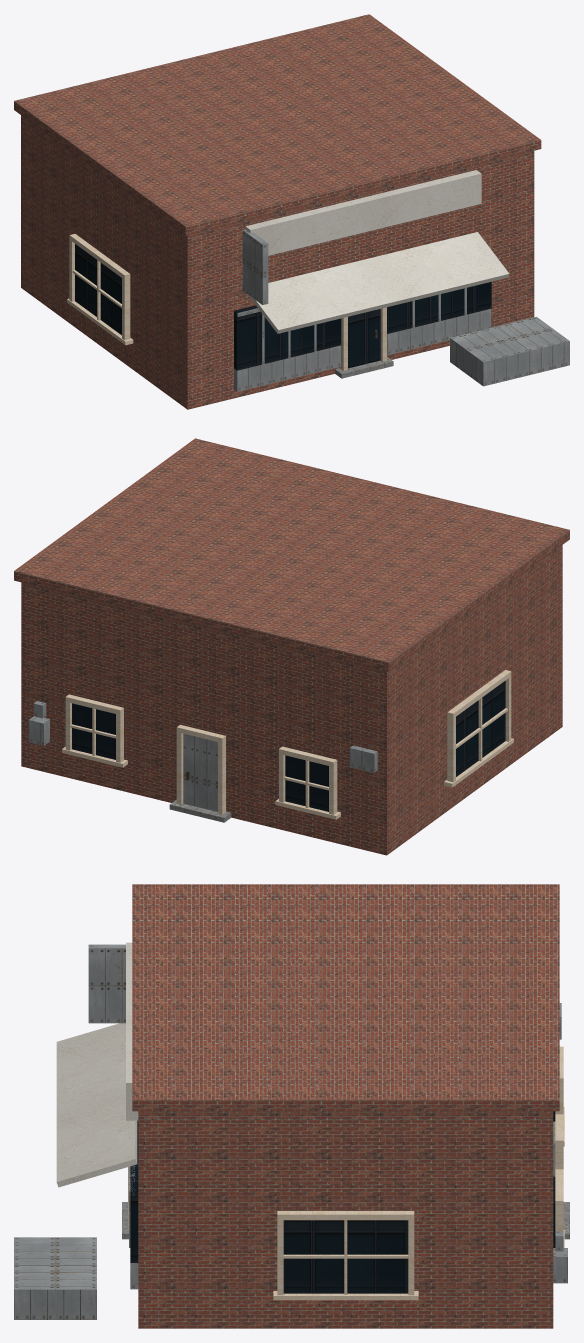
The model's file is corner-crust-bakery_lod0.gltf.
3 renders of one model, top to bottom at view 1: azimuth 30°, elevation 25°; view 2: azimuth 150°, elevation 25°; view 3: azimuth 270°, elevation 25°, orthographic. The views are drawn at different scales.
Parts seen in each view (by area): view 1: corner-crust-bakery__parapet, corner-crust-bakery_main, corner-crust-bakery__awning, corner-crust-bakery_fen_07-glass-curtain-blue_1_t, corner-crust-bakery__sign_band, corner-crust-bakery__patio_tables, corner-crust-bakery_fen_14-steel-panel_4, corner-crust-bakery_fen_04-limestone_0, corner-crust-bakery__blade_sign, corner-crust-bakery_fen_06-granite_3; view 2: corner-crust-bakery_main, corner-crust-bakery__parapet, corner-crust-bakery_fen_04-limestone_0, corner-crust-bakery_fen_07-glass-curtain-blue_1_t, corner-crust-bakery_fen_14-steel-panel_4, corner-crust-bakery_fen_06-granite_3; view 3: corner-crust-bakery__parapet, corner-crust-bakery_main, corner-crust-bakery__awning, corner-crust-bakery_fen_07-glass-curtain-blue_1_t, corner-crust-bakery__patio_tables, corner-crust-bakery_fen_04-limestone_0, corner-crust-bakery__blade_sign, corner-crust-bakery_fen_14-steel-panel_4, corner-crust-bakery__sign_band.
Boxes of the visible parts, bbox=[...] form: corner-crust-bakery__parapet: bbox=[14, 14, 541, 235]; corner-crust-bakery_main: bbox=[21, 115, 534, 409]; corner-crust-bakery__awning: bbox=[248, 232, 509, 333]; corner-crust-bakery_fen_07-glass-curtain-blue_1_t: bbox=[75, 244, 491, 370]; corner-crust-bakery__sign_band: bbox=[245, 170, 481, 255]; corner-crust-bakery__patio_tables: bbox=[450, 317, 569, 386]; corner-crust-bakery_fen_14-steel-panel_4: bbox=[234, 288, 491, 391]; corner-crust-bakery_fen_04-limestone_0: bbox=[67, 234, 386, 371]; corner-crust-bakery__blade_sign: bbox=[242, 229, 268, 304]; corner-crust-bakery_fen_06-granite_3: bbox=[335, 357, 393, 378]; corner-crust-bakery_main: bbox=[21, 545, 562, 855]; corner-crust-bakery__parapet: bbox=[14, 438, 569, 671]; corner-crust-bakery_fen_04-limestone_0: bbox=[62, 670, 513, 819]; corner-crust-bakery_fen_07-glass-curtain-blue_1_t: bbox=[72, 680, 505, 811]; corner-crust-bakery_fen_14-steel-panel_4: bbox=[28, 701, 377, 811]; corner-crust-bakery_fen_06-granite_3: bbox=[169, 799, 231, 822]; corner-crust-bakery__parapet: bbox=[132, 884, 559, 1111]; corner-crust-bakery_main: bbox=[138, 1111, 553, 1328]; corner-crust-bakery__awning: bbox=[56, 1023, 137, 1187]; corner-crust-bakery_fen_07-glass-curtain-blue_1_t: bbox=[130, 1111, 555, 1293]; corner-crust-bakery__patio_tables: bbox=[14, 1237, 96, 1319]; corner-crust-bakery_fen_04-limestone_0: bbox=[128, 1046, 564, 1300]; corner-crust-bakery__blade_sign: bbox=[88, 944, 125, 1023]; corner-crust-bakery_fen_14-steel-panel_4: bbox=[129, 1003, 567, 1289]; corner-crust-bakery__sign_band: bbox=[126, 942, 138, 1120].
Size of the model in its own units: 12.55 by 6.15 by 13.4.
